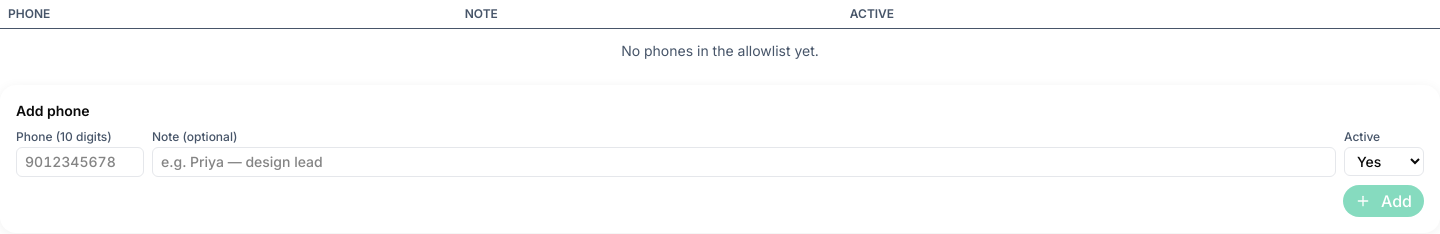
Test: DesignPreviewAllowlistEditor › strips non-digit characters from the Add-phone input and caps at 10
Type "+91 9012-345-678901" into the field with placeholder "9012345678" at (80, 162), box left=16, top=147, right=144, bottom=177
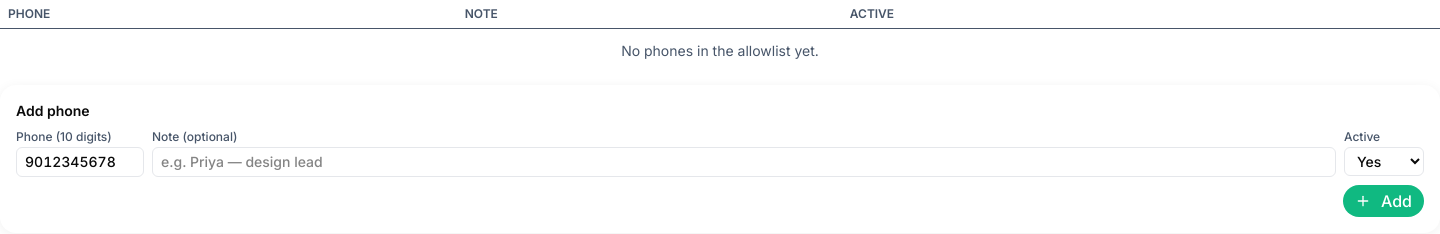
Result: the field with placeholder "9012345678" holds "9012345678" at left=16, top=147, right=144, bottom=177
